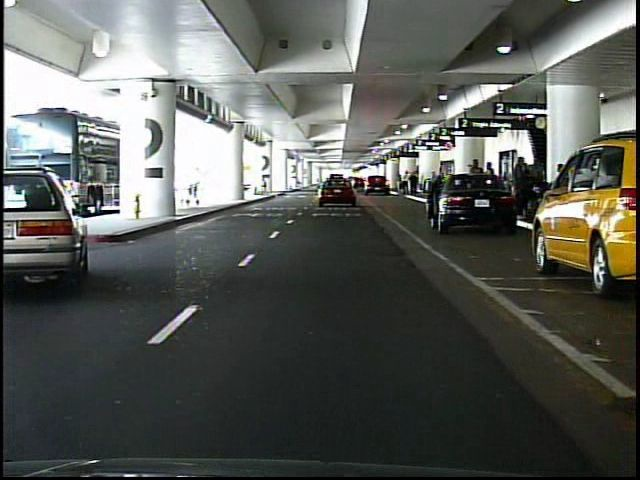person: (524, 154, 544, 220), (510, 158, 531, 219), (468, 157, 486, 211), (484, 161, 499, 209), (402, 170, 412, 197), (411, 173, 419, 198), (396, 175, 404, 193)
